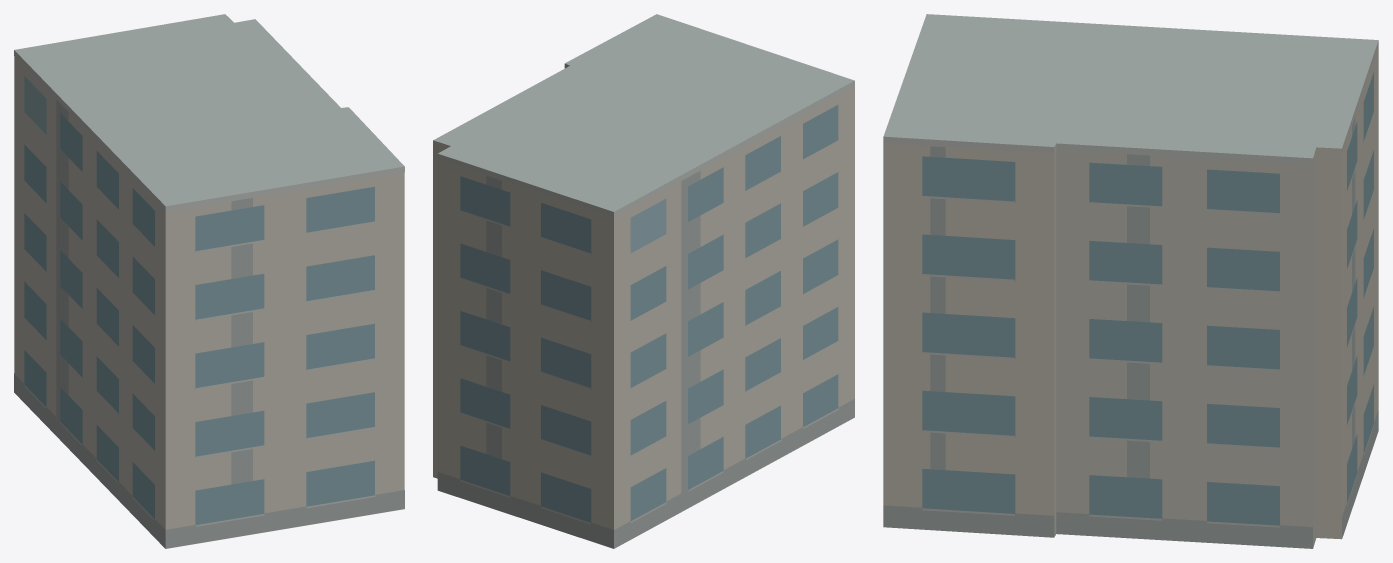
File: survey-upis-32957848.glb
3 views of the same model, side by side, from view 1: azimuth 30°, elevation 25°; view 2: azimuth 150°, elevation 25°; view 3: azimuth 270°, elevation 25° (orthographic). The views are drawn at different scales.
Parts seen in each view (by area): view 1: survey-upis-32957848.tmp; view 2: survey-upis-32957848.tmp; view 3: survey-upis-32957848.tmp.
Boxes of the visible parts, x1=… form: survey-upis-32957848.tmp: x1=14, y1=14, x2=404, y2=548; survey-upis-32957848.tmp: x1=433, y1=14, x2=854, y2=548; survey-upis-32957848.tmp: x1=883, y1=14, x2=1378, y2=548.
Size of the model in its own units: 11.18 by 14.1 by 16.21.
